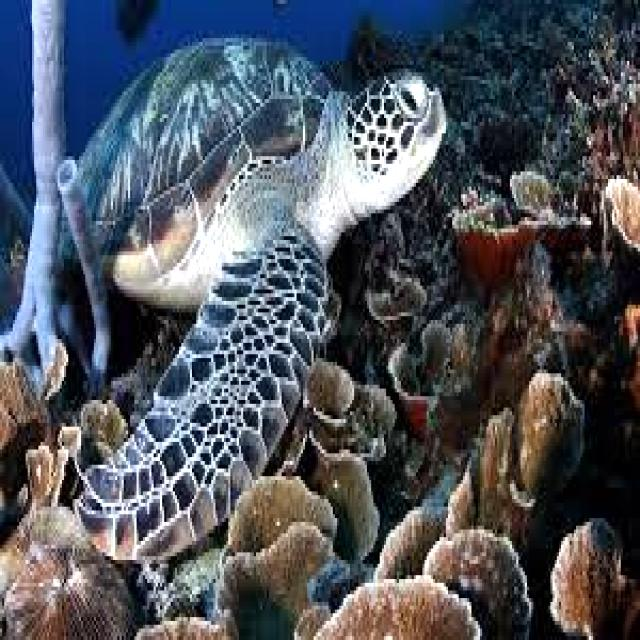Sea turtle: (16, 36, 449, 564)
